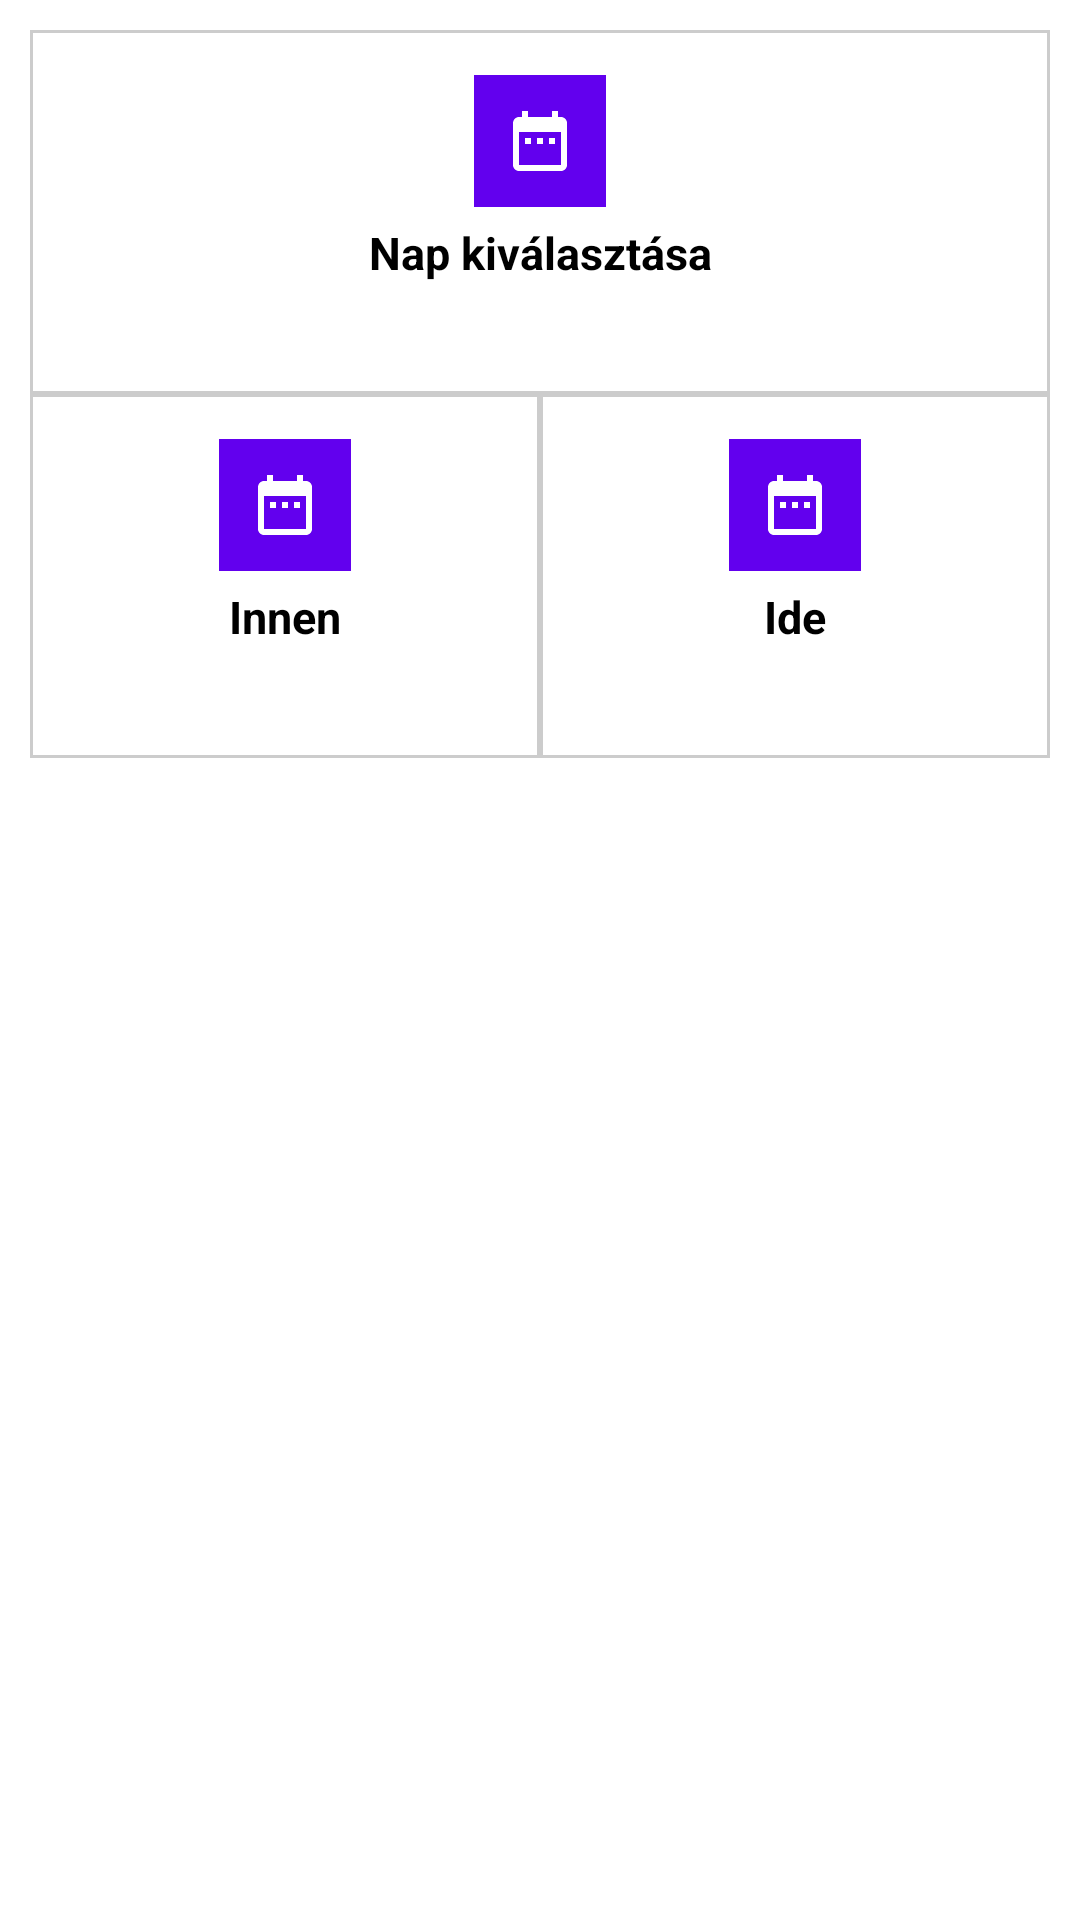

Point at icon controls on the screen. Image size 1080x1920, points as [x,y].
date ikon: [540,141], [285,505], [795,505]
